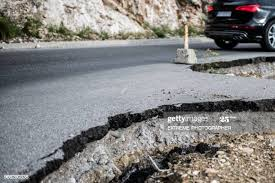pothole: (83, 101, 275, 181)
